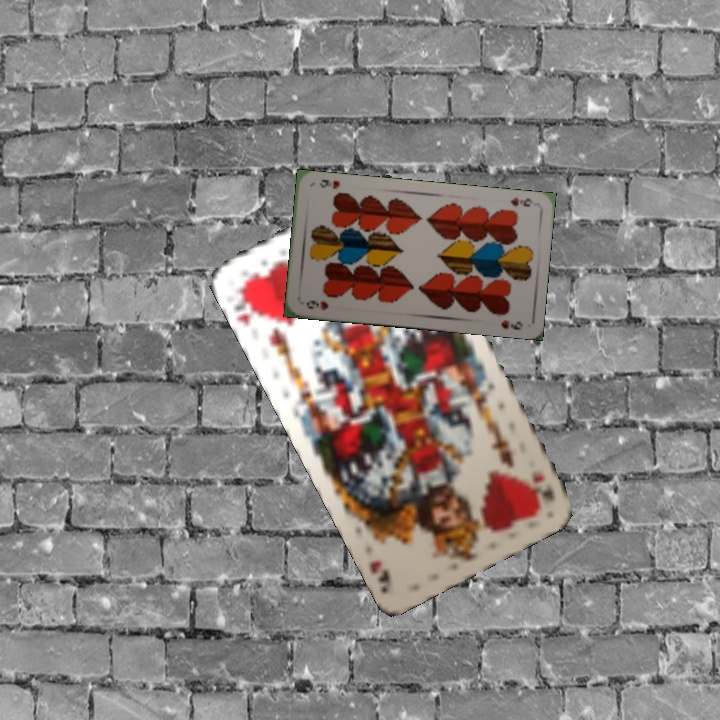H9: (303, 296, 331, 313), (507, 193, 534, 209)
HK: (229, 276, 264, 330), (527, 467, 558, 504)
